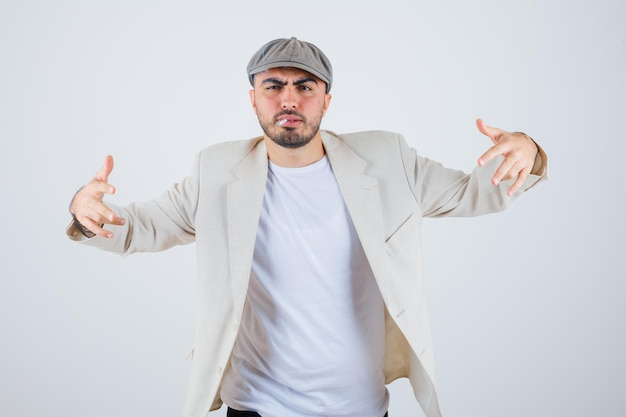cigarette: (275, 117, 288, 127)
